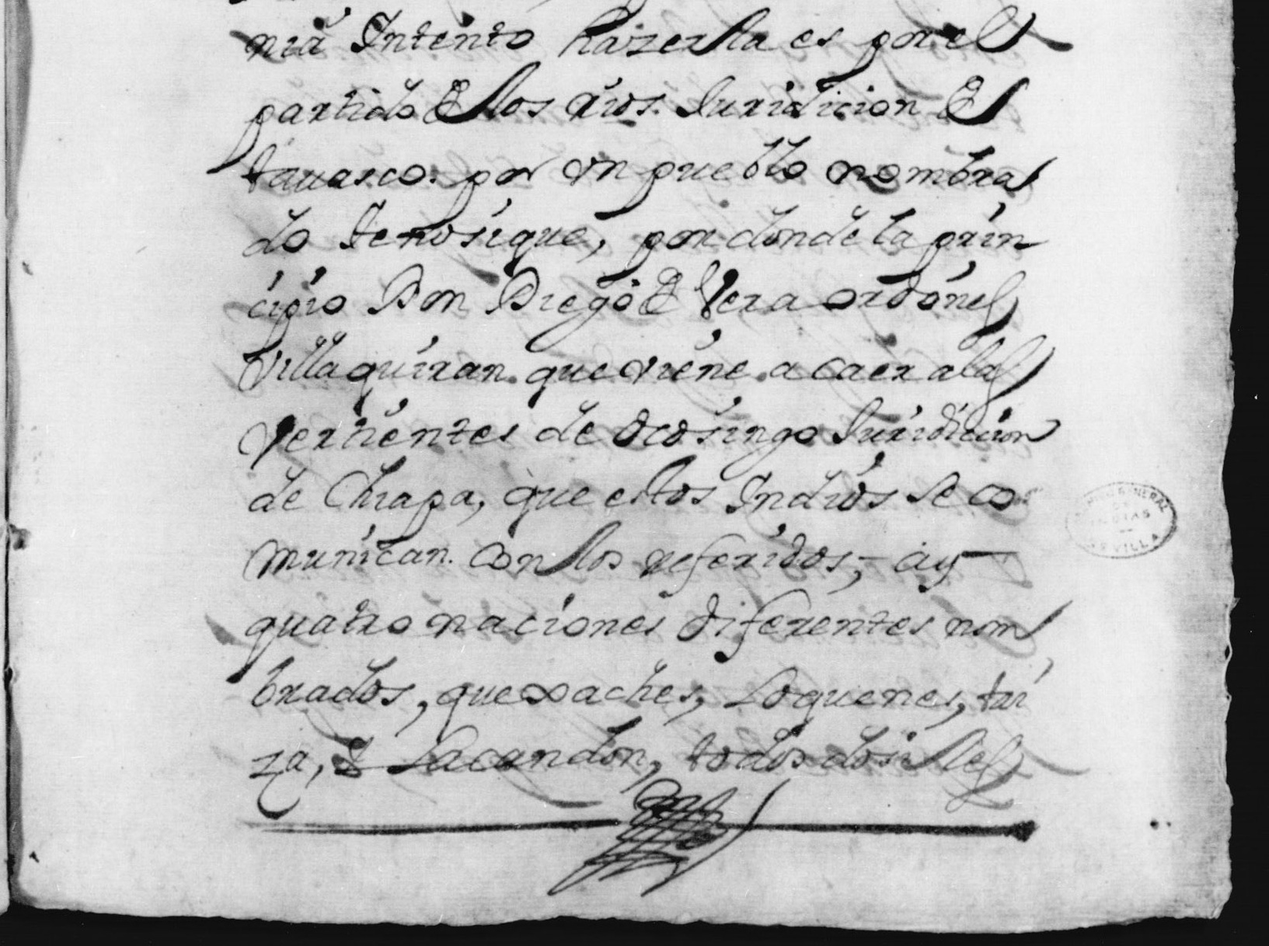lacandon: (387, 715, 645, 774)
